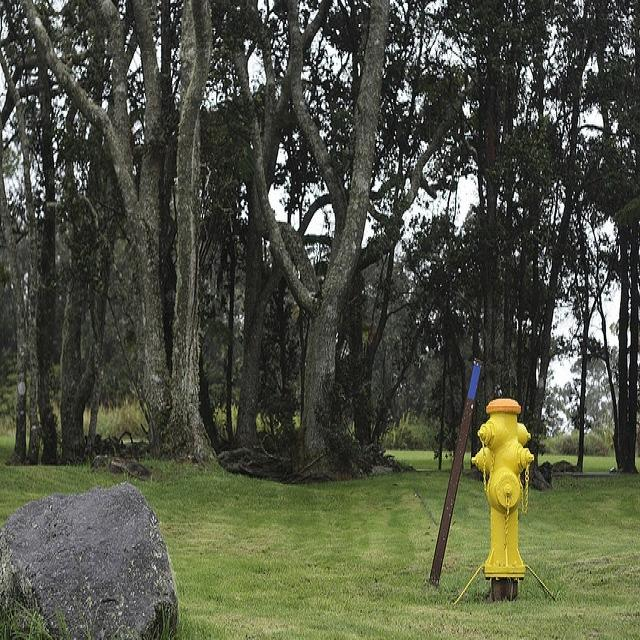fire_hydrant: (452, 396, 555, 602)
